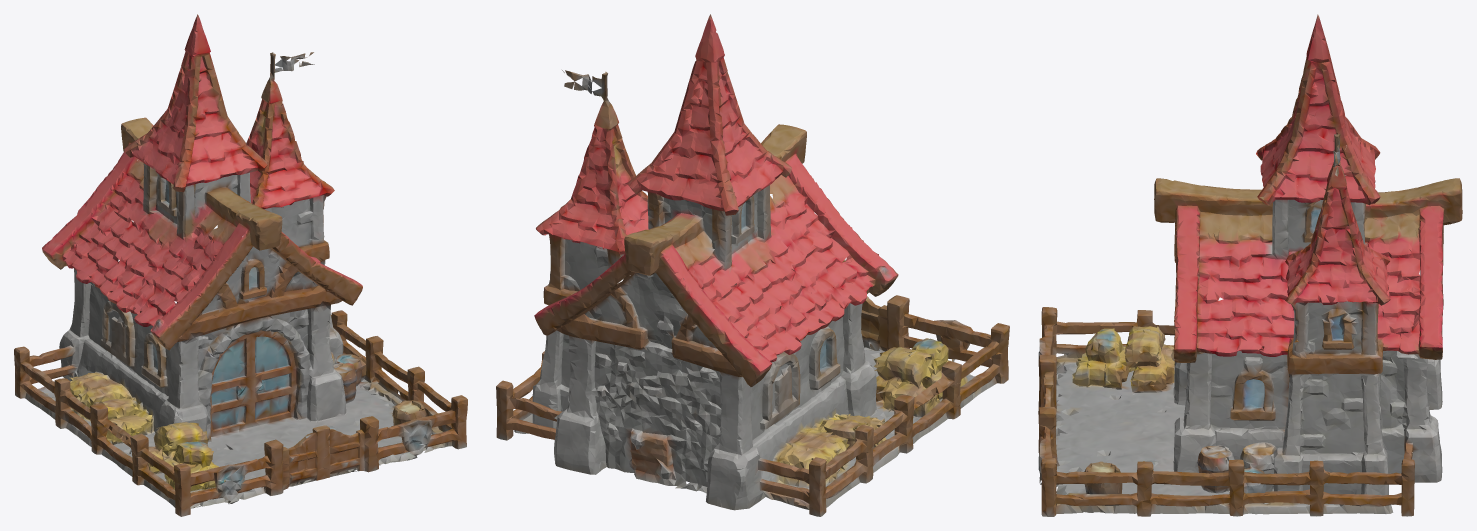
Rendered from building_royal_stable_lod0.glb.
The picture shows the model from 3 angles, left to right: view 1: azimuth 30°, elevation 25°; view 2: azimuth 150°, elevation 25°; view 3: azimuth 270°, elevation 25°; orthographic projection. The views are drawn at different scales.
Parts seen in each view (by area): view 1: world; view 2: world; view 3: world.
Part boxes in pixels (box(x1,y1,x2,y2)): world: box(14, 14, 467, 516); world: box(496, 14, 1009, 516); world: box(1038, 14, 1462, 516).
Size of the model in its own units: 1.52 by 1.9 by 1.73.
